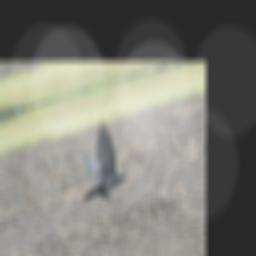Crow: (72, 111, 134, 211)
